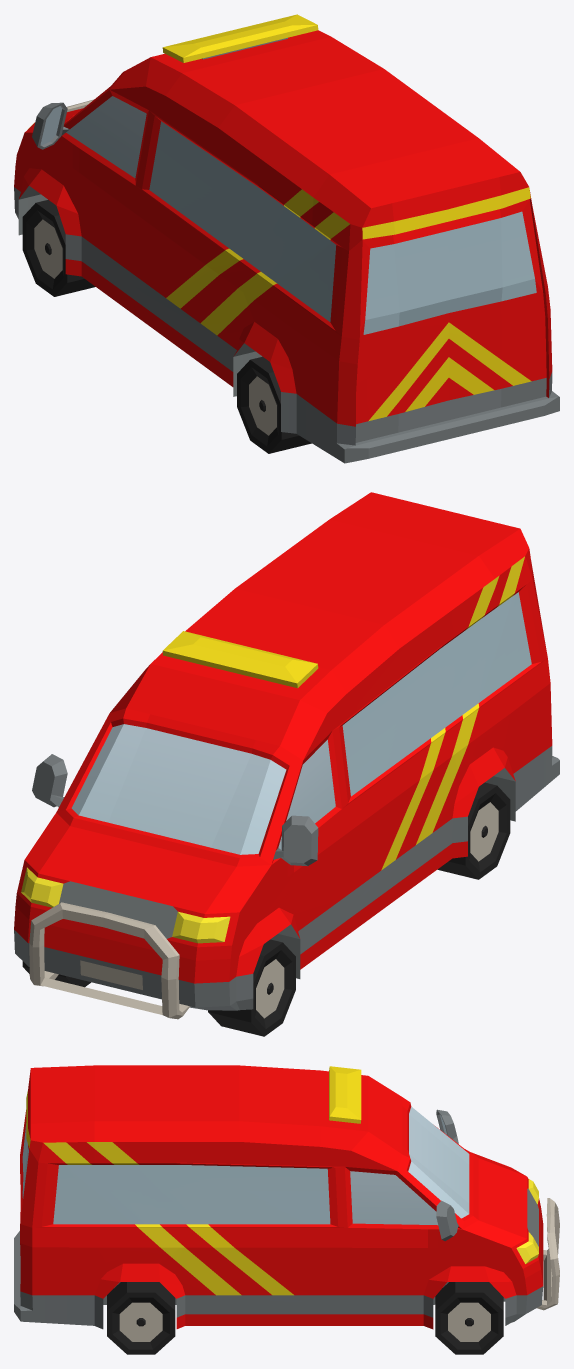
File: FireVanForCrew.fbx
3 views of the same model, one above another, from view 1: azimuth 30°, elevation 25°; view 2: azimuth 150°, elevation 25°; view 3: azimuth 270°, elevation 25° (orthographic). The views are drawn at different scales.
Visible parts, largest first — view 1: FireVanForCrew; view 2: FireVanForCrew; view 3: FireVanForCrew.
Boxes of the visible parts, x1,y1,x2,y2 form: FireVanForCrew: (14,14,559,463); FireVanForCrew: (14,492,559,1036); FireVanForCrew: (14,1065,559,1354).
Bounding box in the file's own units: 265 × 262 × 584.
Materials: 1 (1 with a texture image).
